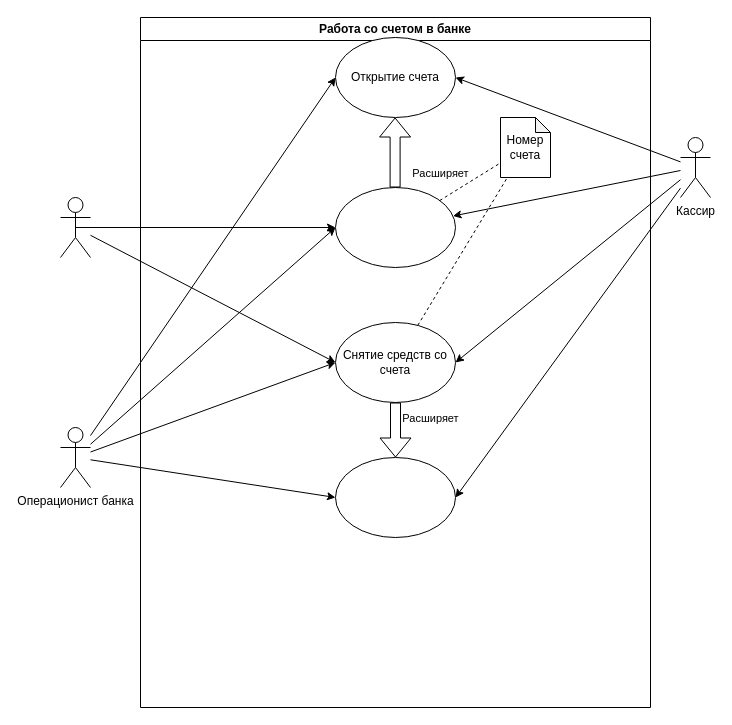
Image size: 732x725. Some labels were removed from this diagram. Each missing label, with the box of its shape:
Закрытие счета: (334, 456, 456, 538)
Клиент банка: (60, 196, 90, 258)
Пополнение счета: (334, 186, 456, 268)
